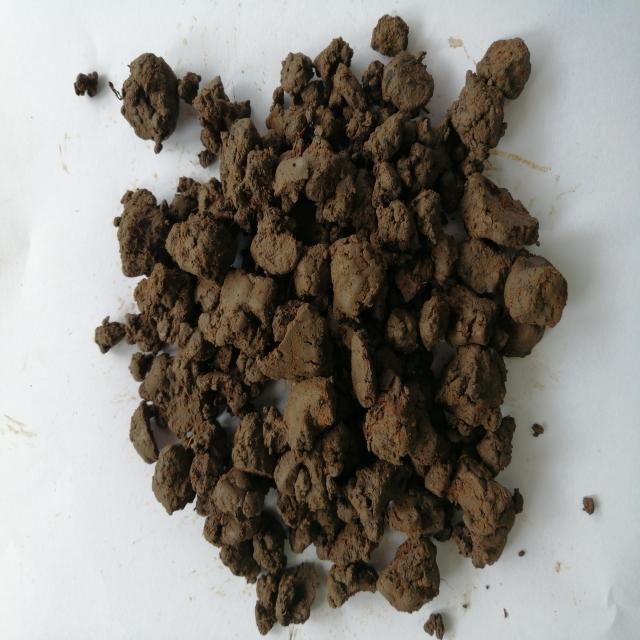soil: (168, 164, 518, 576)
